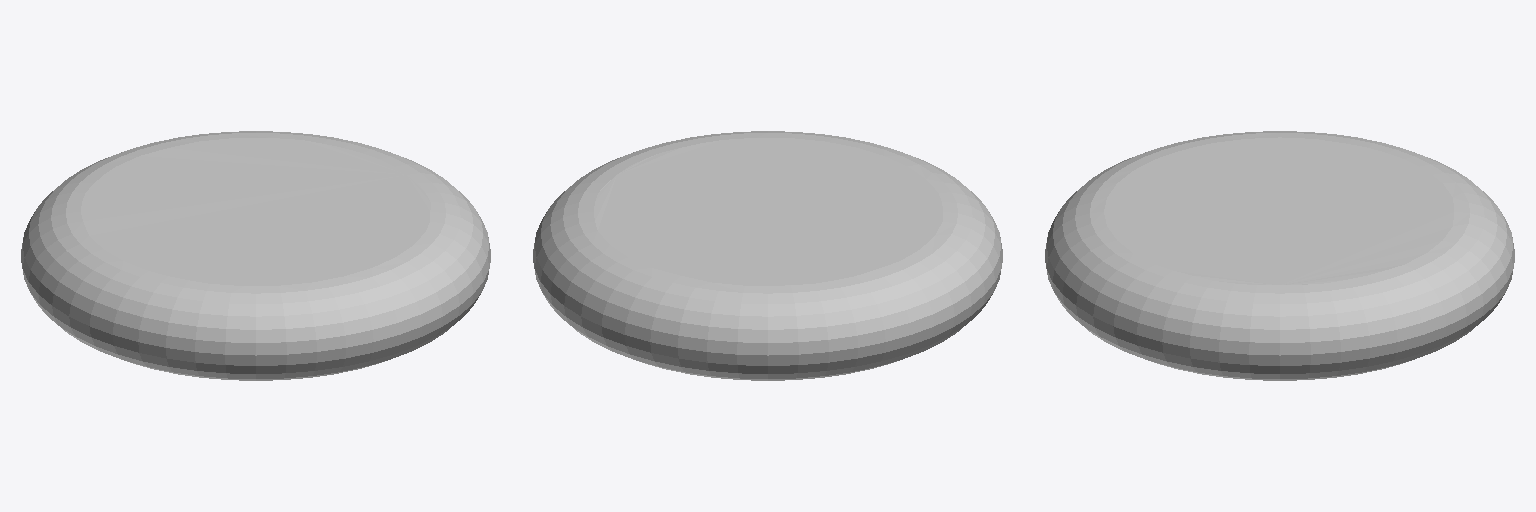
Rendered from eyelet_dough.obj.
3 views of the same model, side by side, from view 1: azimuth 30°, elevation 25°; view 2: azimuth 150°, elevation 25°; view 3: azimuth 270°, elevation 25° (orthographic).
Parts seen in each view (by area): view 1: Dough; view 2: Dough; view 3: Dough.
Part boxes in pixels (bbox=[...]): Dough: bbox=[21, 131, 490, 380]; Dough: bbox=[533, 131, 1002, 380]; Dough: bbox=[1045, 131, 1514, 380].
Size of the model in its own units: 2.7 by 0.56 by 2.7.